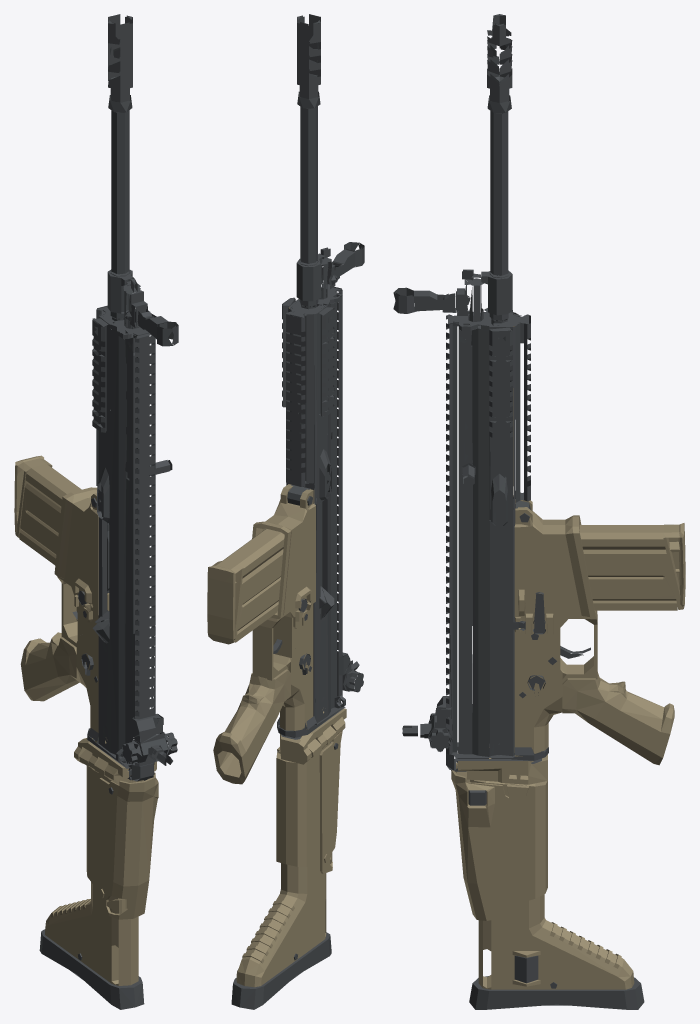
File: aurora_scar.glb
The picture shows the model from 3 angles, left to right: view 1: azimuth 30°, elevation 25°; view 2: azimuth 150°, elevation 25°; view 3: azimuth 270°, elevation 25°; orthographic projection. The views are drawn at different scales.
Parts seen in each view (by area): view 1: Metal, Polymer; view 2: Polymer, Metal; view 3: Polymer, Metal.
Part boxes in pixels (x1=…): Metal: x1=39, y1=14, x2=178, y2=1009; Polymer: x1=14, y1=455, x2=158, y2=985; Polymer: x1=207, y1=307, x2=346, y2=987; Metal: x1=231, y1=14, x2=364, y2=1009; Polymer: x1=451, y1=326, x2=685, y2=989; Metal: x1=393, y1=14, x2=644, y2=1009.
Size of the model in its own units: 0.0608 by 0.9533 by 0.2567.
